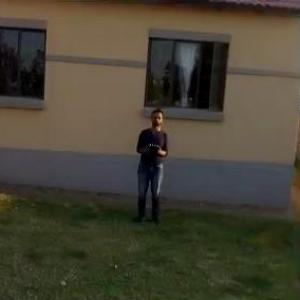follow: (127, 111, 169, 239)
